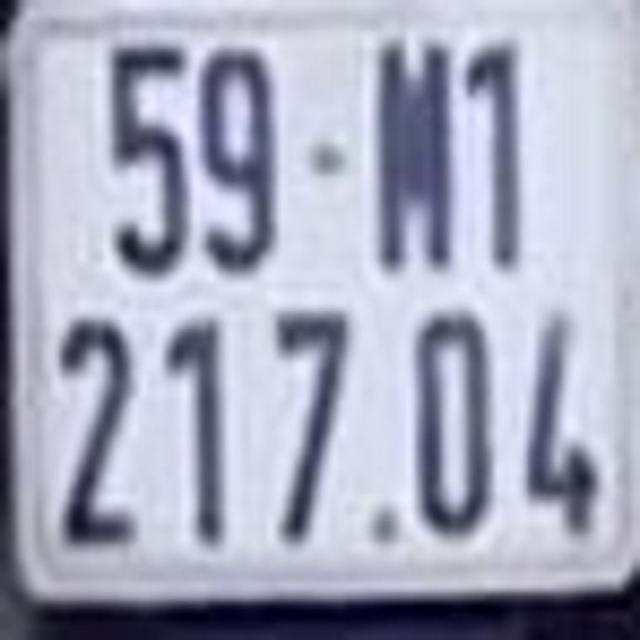0: (410, 298, 498, 537)
1: (158, 310, 238, 546), (463, 31, 529, 272)
2: (54, 297, 141, 552)
4: (517, 306, 605, 541)
5: (106, 36, 193, 278)
7: (264, 302, 350, 548)
9: (197, 28, 280, 266)
H: (378, 39, 458, 268)
